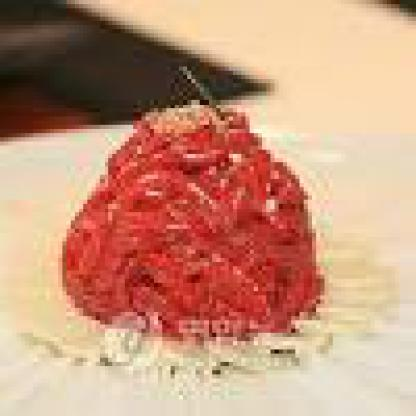Korean style raw beef: (72, 106, 326, 335)
